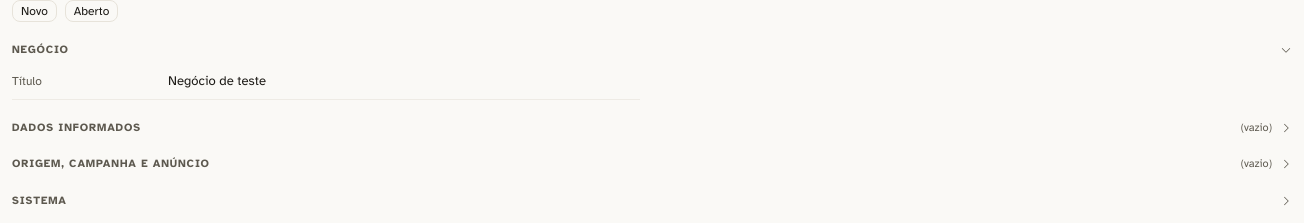
Test: seções recolhíveis dos dados do lead › continua funcionando quando o localStorage está indisponível
The image size is (1304, 223).
Click the button "Negócio" at (40, 50), box [12,42,1292,58]
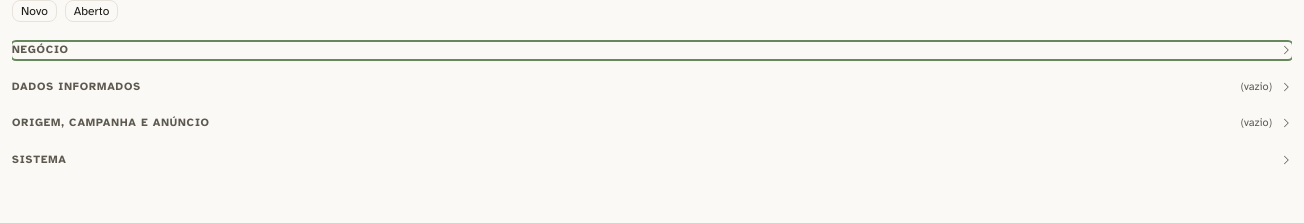
Check: the button "Negócio" is collapsed, box [12,42,1292,58]
